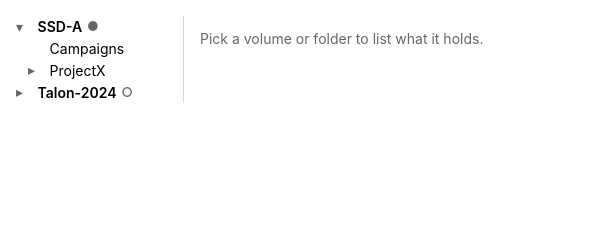
Test: the kind chip filters to one media kind
The image size is (610, 236).
Click the button named "ProjectX folders" at point(35, 70), box [28,64,42,78]
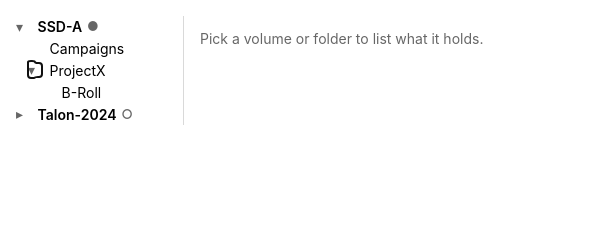
Click the button "B-Roll" at point(114, 92), box [57,81,171,103]
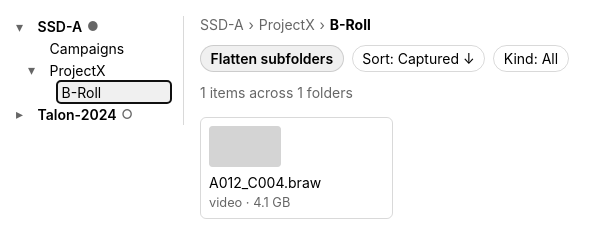
Click the button "Kind: All" at point(531, 58), box [493,45,569,72]
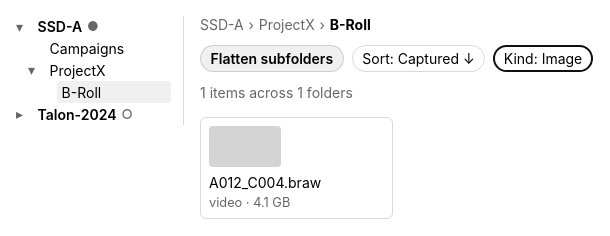
expect the button "Kind: Image" is shown: met, box [493,45,593,72]
